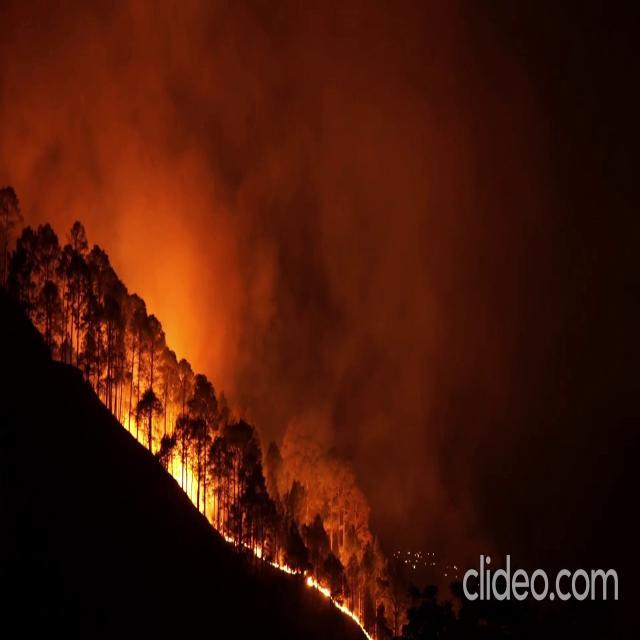Fire: (168, 433, 232, 539), (306, 572, 372, 636), (249, 538, 287, 572)
Smoke: (30, 0, 575, 476)
